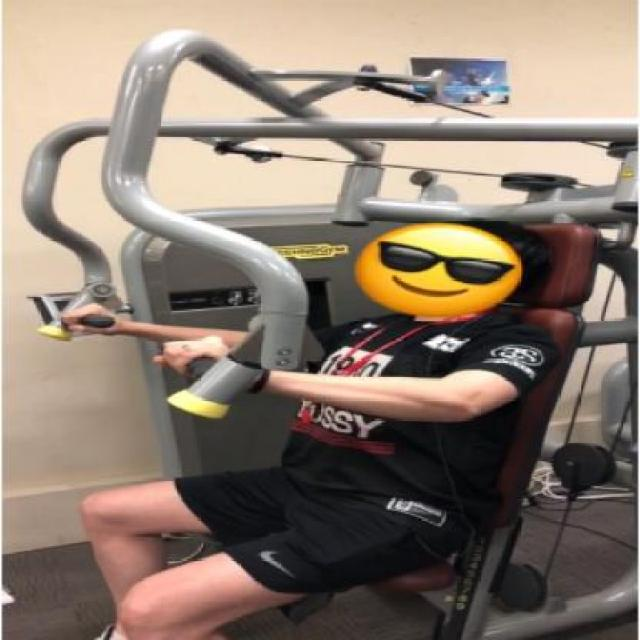Chest Press machine: (20, 26, 638, 640)
